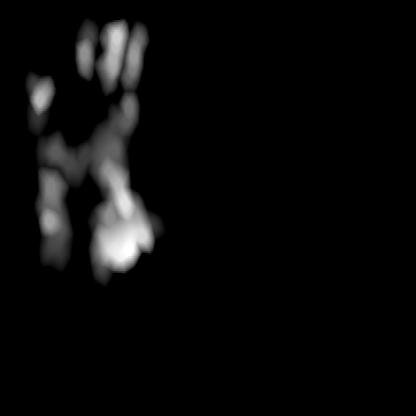palm: (28, 17, 148, 128)
thumb: (36, 132, 154, 276)
